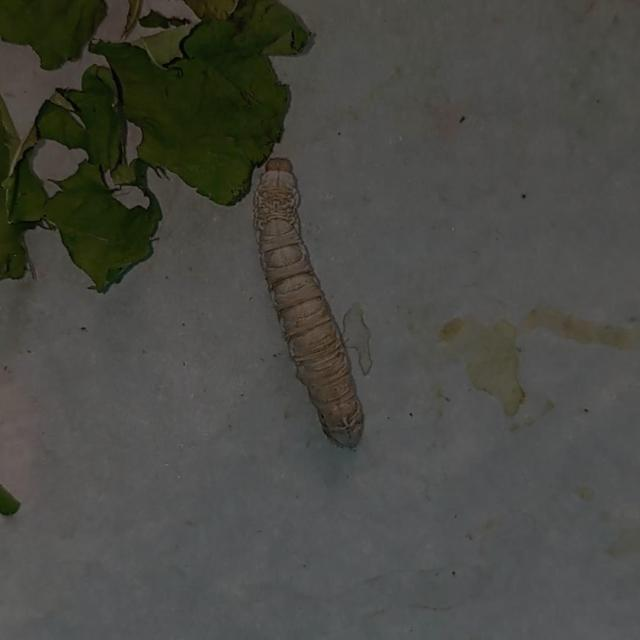Grasserie: (237, 144, 383, 455)
